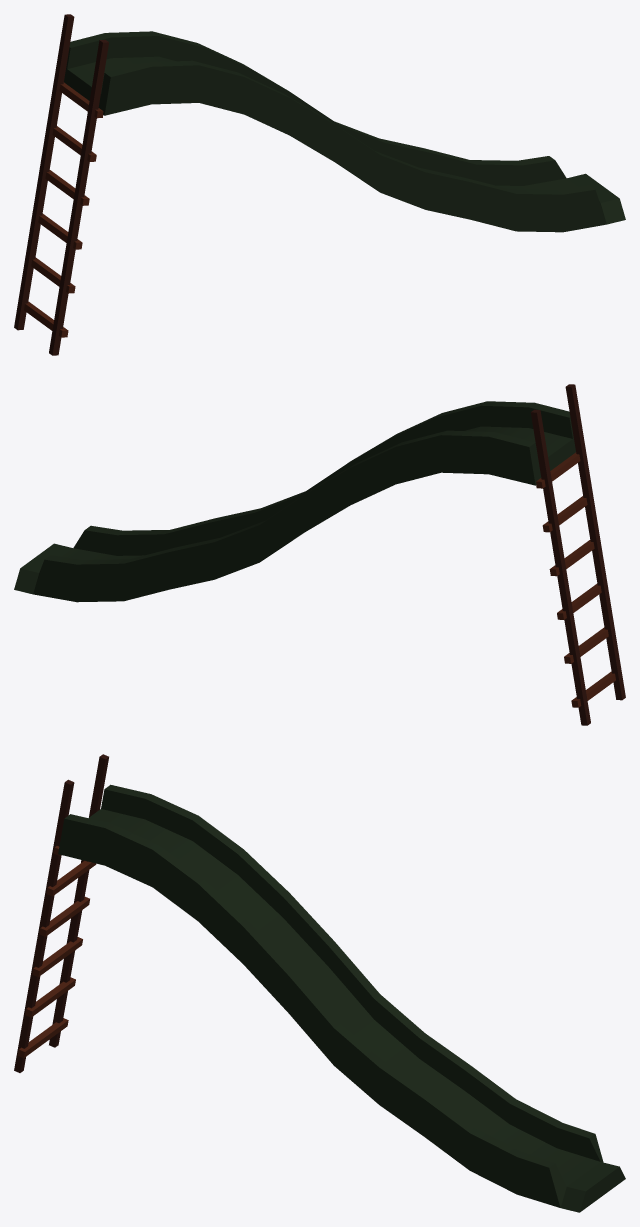
Rendered from Toboggan.fbx.
3 renders of one model, top to bottom at view 1: azimuth 30°, elevation 25°; view 2: azimuth 150°, elevation 25°; view 3: azimuth 330°, elevation 25°, orthographic.
Parts seen in each view (by area): view 1: Toboggan; view 2: Toboggan; view 3: Toboggan.
Boxes of the visible parts, x1,y1,x2,y2 form: Toboggan: [14, 14, 625, 355]; Toboggan: [14, 384, 625, 725]; Toboggan: [14, 754, 625, 1212].
Bounding box in the file's own units: 582 × 295 × 82.05.
